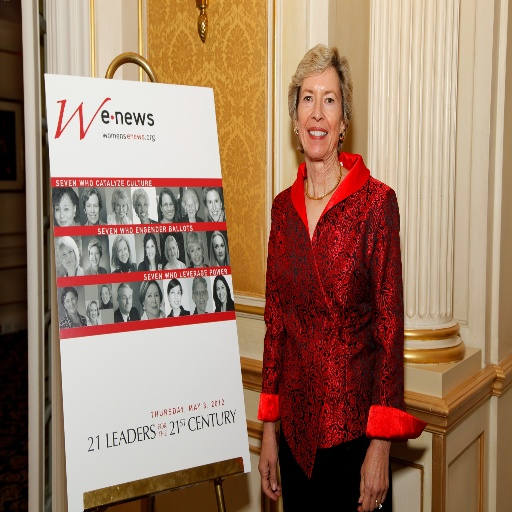hand: (356, 431, 398, 502), (257, 435, 283, 503)
